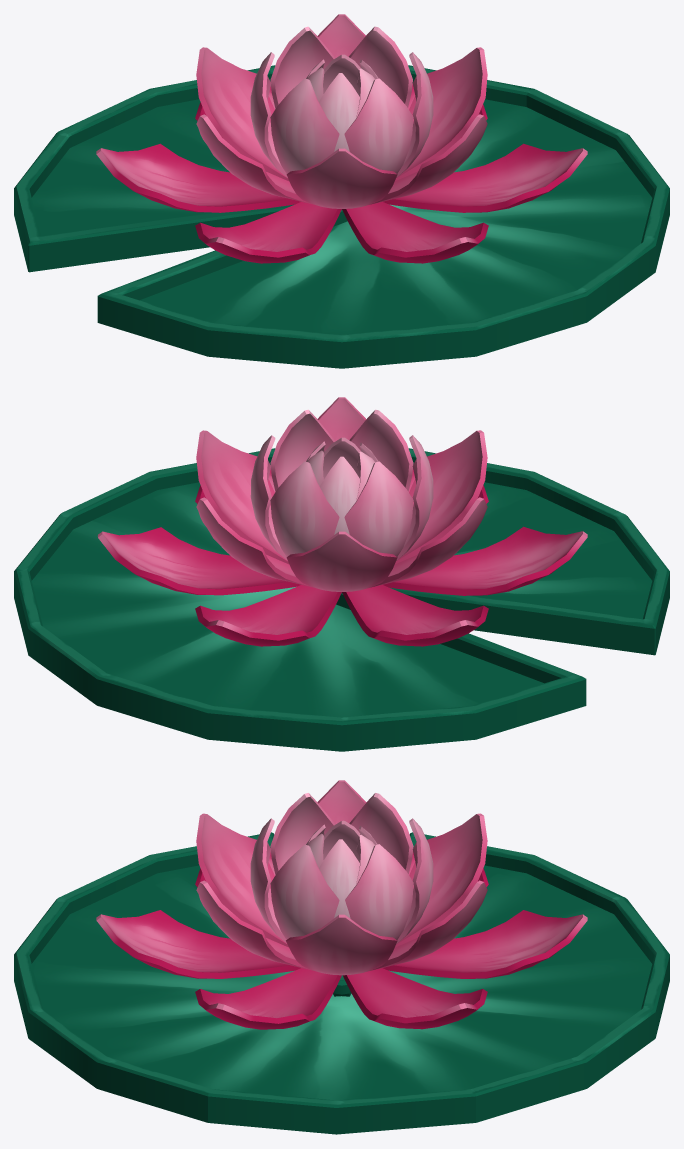
The model's file is lily_pad_and_lotus_flower.glb.
3 renders of one model, top to bottom at view 1: azimuth 30°, elevation 25°; view 2: azimuth 150°, elevation 25°; view 3: azimuth 270°, elevation 25°, orthographic.
Visible parts, largest first — view 1: Object_5, Object_2, Object_4, Object_3, Object_6; view 2: Object_5, Object_2, Object_4, Object_3, Object_6; view 3: Object_5, Object_2, Object_4, Object_3, Object_6.
Part boxes in pixels (<box>): Object_5: <box>14,65,669,368</box>; Object_2: <box>96,84,587,263</box>; Object_4: <box>196,14,487,208</box>; Object_3: <box>250,26,433,177</box>; Object_6: <box>306,54,378,151</box>; Object_5: <box>14,448,669,751</box>; Object_2: <box>97,468,587,646</box>; Object_4: <box>196,397,487,591</box>; Object_3: <box>250,409,433,560</box>; Object_6: <box>306,437,378,534</box>; Object_5: <box>14,832,669,1134</box>; Object_2: <box>96,852,587,1029</box>; Object_4: <box>196,780,487,975</box>; Object_3: <box>250,793,433,943</box>; Object_6: <box>306,820,377,918</box>.
Size of the model in its own units: 42.79 by 12.81 by 43.12.
Materials: 5 (5 with a texture image).
